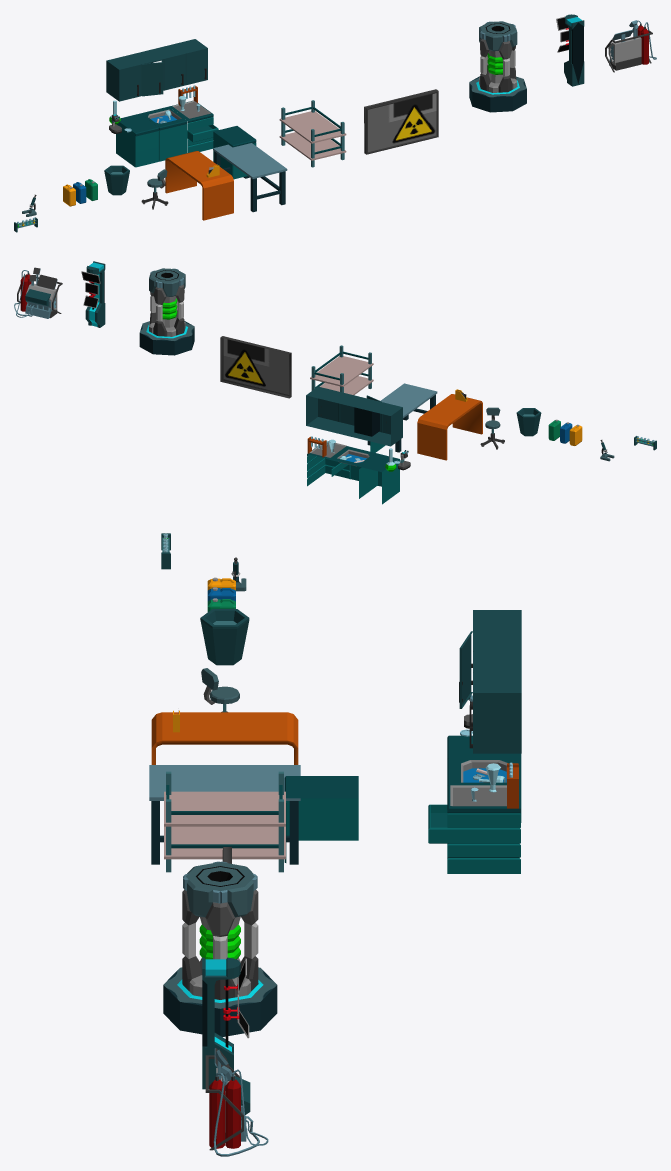
File: Props for laboratory.fbx
3 views of the same model, one above another, from view 1: azimuth 30°, elevation 25°; view 2: azimuth 150°, elevation 25°; view 3: azimuth 270°, elevation 25° (orthographic). The views are drawn at different scales.
Parts seen in each view (by area): view 1: shelf, frame .001, table1, Cube.017, floor_base_010, Cube.018, bottom_shelf3, props_sml_info_table_02, stoika001, bottom_shelf2, path_01_005, bottom_shelf1 (+4 smaller); view 2: shelf, frame .001, table1, floor_base_010, Cube.017, props_sml_info_table_02, stoika001, path_01_005, Cube.018, bottom_shelf2, bottom_shelf3, bottom_shelf1 (+2 smaller); view 3: Cube.017, floor_base_010, shelf, bottom_shelf1, Cube.018, table1, bottom_shelf4, path_01_005, props_sml_info_table_02, stoika001, Circle.007, bottom_shelf2 (+1 smaller).
Part boxes in pixels (x1,y1,x2,y2): shelf: (106,39,207,101); frame .001: (364,89,438,154); table1: (165,151,233,220); Cube.017: (279,100,346,167); floor_base_010: (479,21,517,92); Cube.018: (213,143,287,212); bottom_shelf3: (116,113,158,167); props_sml_info_table_02: (605,20,656,72); stoika001: (556,14,584,86); bottom_shelf2: (140,106,187,161); path_01_005: (469,76,526,112); bottom_shelf1: (169,100,218,152); shelf: (306,386,402,446); frame .001: (220,336,291,398); table1: (417,389,482,460); floor_base_010: (149,268,185,336); Cube.017: (310,345,373,394); props_sml_info_table_02: (14,267,62,318); stoika001: (81,261,105,327); path_01_005: (139,321,194,355); Cube.018: (367,383,437,452); bottom_shelf2: (332,447,376,498); bottom_shelf3: (359,453,399,504); bottom_shelf1: (307,446,349,486); Cube.017: (164,771,285,872); floor_base_010: (182,861,258,999); shelf: (459,610,521,753); bottom_shelf1: (428,784,520,873); Cube.018: (149,765,300,864); table1: (151,710,298,764); bottom_shelf4: (284,776,358,862); path_01_005: (163,967,277,1036); props_sml_info_table_02: (205,1048,268,1156); stoika001: (202,957,249,1089); Circle.007: (200,609,249,665); bottom_shelf2: (447,758,521,822).
Bounding box in the file's own units: 22.87 × 3.61 × 5.88.
